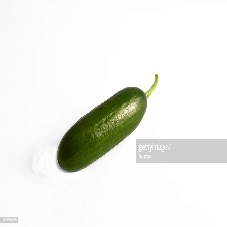cucumber: (53, 86, 149, 175)
